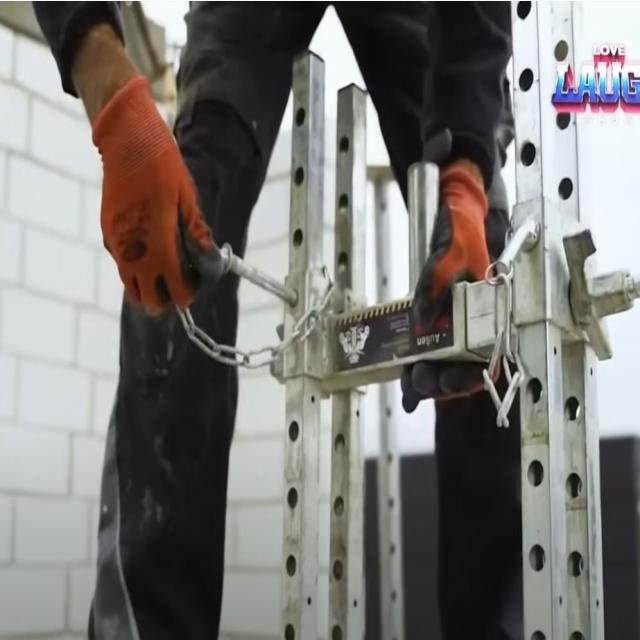gloved_hand: (80, 70, 235, 320), (397, 159, 514, 418)
